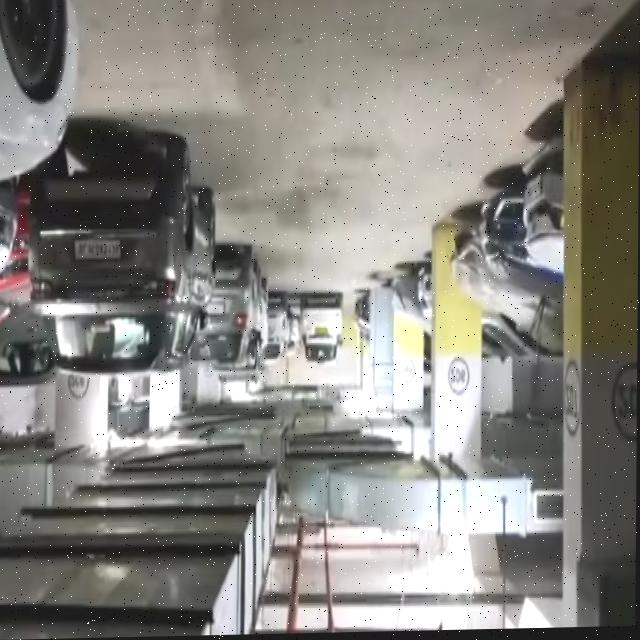plate: (71, 234, 122, 264), (315, 327, 329, 339)
